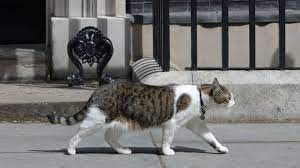cat: (47, 77, 235, 157)
